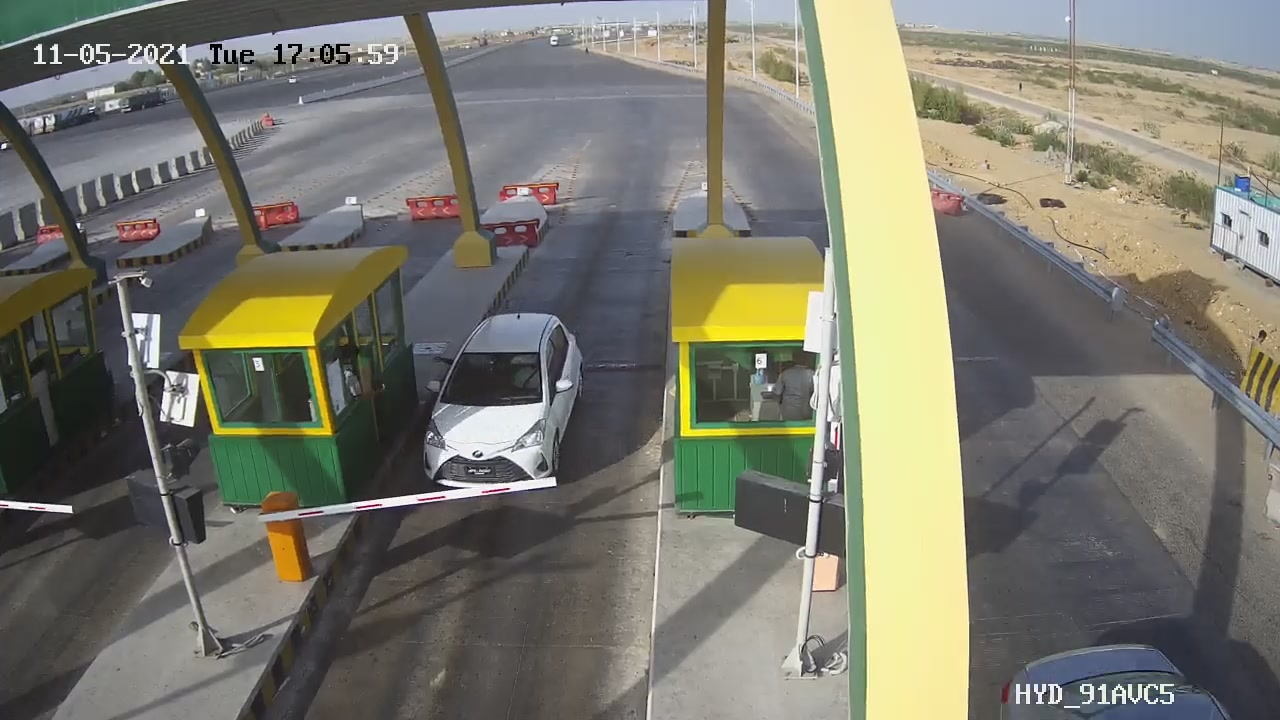F1: (398, 294, 596, 511)
